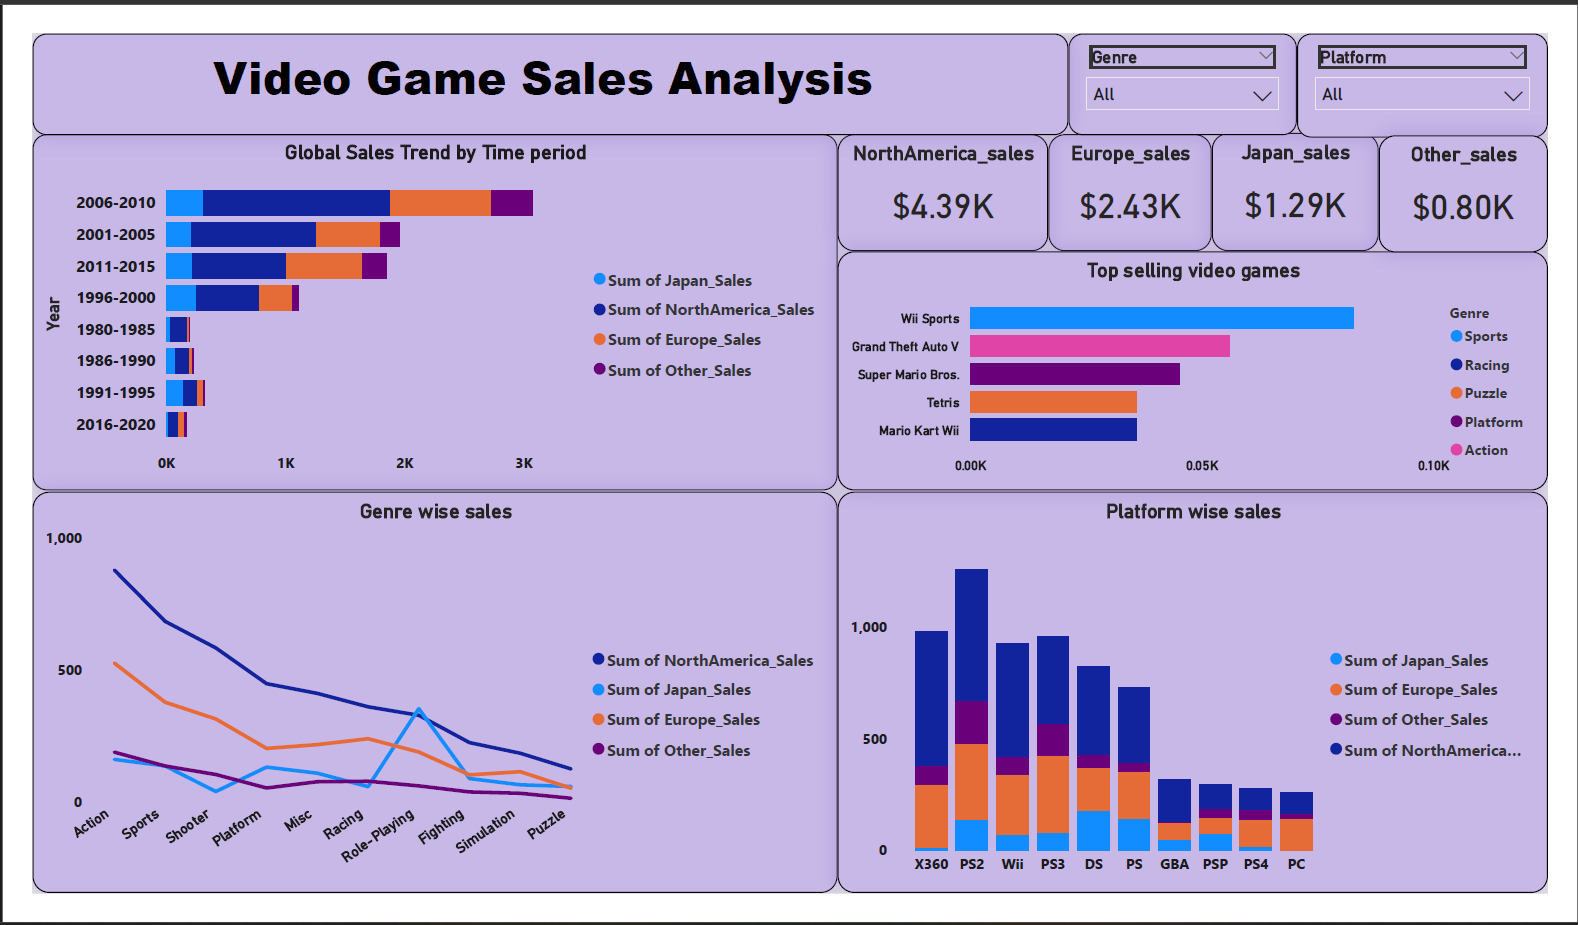

Layout of this report page (visuals, bound fields, positions):
{"tool":"powerbi","page":{"name":"Sales Overview","canvas":[1280,726],"ordinal":0},"visuals":[{"type":"barChart","title":"Global Sales Trend by Time period","fields":{"Category":["videogamesales.Year (groups)"],"Y":["Sum(videogamesales.Japan_Sales)","Sum(videogamesales.NorthAmerica_Sales)","Sum(videogamesales.Europe_Sales)","Sum(videogamesales.Other_Sales)"]},"box":[0,85.3,680.2,300.8],"z":0},{"type":"lineChart","title":"Genre wise sales","fields":{"Y":["Sum(videogamesales.NorthAmerica_Sales)","Sum(videogamesales.Japan_Sales)","Sum(videogamesales.Europe_Sales)","Sum(videogamesales.Other_Sales)"],"Category":["videogamesales.Genre"]},"box":[0,387.2,680.2,339],"z":1000},{"type":"columnChart","title":"Platform wise sales","fields":{"Category":["videogamesales.Platform"],"Y":["Sum(videogamesales.Japan_Sales)","Sum(videogamesales.Europe_Sales)","Sum(videogamesales.Other_Sales)","Sum(videogamesales.NorthAmerica_Sales)"]},"box":[680.2,387.2,599.4,339],"z":2000},{"type":"card","title":"Europe_sales ","fields":{"Values":["Sum(videogamesales.Europe_Sales)"]},"box":[857.6,85.2,138.7,98.5],"z":3000},{"type":"card","title":"NorthAmerica_sales","fields":{"Values":["Sum(videogamesales.NorthAmerica_Sales)"]},"box":[680,85.2,177.6,98.5],"z":4000},{"type":"card","title":"Japan_sales","fields":{"Values":["Sum(videogamesales.Japan_Sales)"]},"box":[995.6,84.2,141.4,99.9],"z":5000},{"type":"slicer","fields":{"Values":["videogamesales.Genre"]},"box":[874.7,0,193.4,86.4],"z":6000},{"type":"textbox","box":[0,0,874.7,86.4],"z":7000},{"type":"barChart","title":"Top selling video games","fields":{"Category":["videogamesales.Name"],"Series":["videogamesales.Genre"],"Y":["Sum(videogamesales.Global_Sales)"]},"box":[680.2,184.1,599.4,202],"z":8000},{"type":"slicer","fields":{"Values":["videogamesales.Platform"]},"box":[1068.1,0,211.7,87.6],"z":9000},{"type":"card","title":"Other_sales","fields":{"Values":["Sum(videogamesales.Other_Sales)"]},"box":[1137,86.4,142.6,98.8],"z":10000}]}

Visuals, with their boxes on the page's 1280x726 design canvas (x1, y1, x2, y2). These are canvas units, not pixel positions in the 1578x925 screenshot, which may show the page scaled, cropped or inside an application window:
"Global Sales Trend by Time period" barChart: 0:85:680:386
"Genre wise sales" lineChart: 0:387:680:726
"Platform wise sales" columnChart: 680:387:1280:726
"Europe_sales " card: 858:85:996:184
"NorthAmerica_sales" card: 680:85:858:184
"Japan_sales" card: 996:84:1137:184
slicer - videogamesales.Genre: 875:0:1068:86
textbox: 0:0:875:86
"Top selling video games" barChart: 680:184:1280:386
slicer - videogamesales.Platform: 1068:0:1280:88
"Other_sales" card: 1137:86:1280:185
